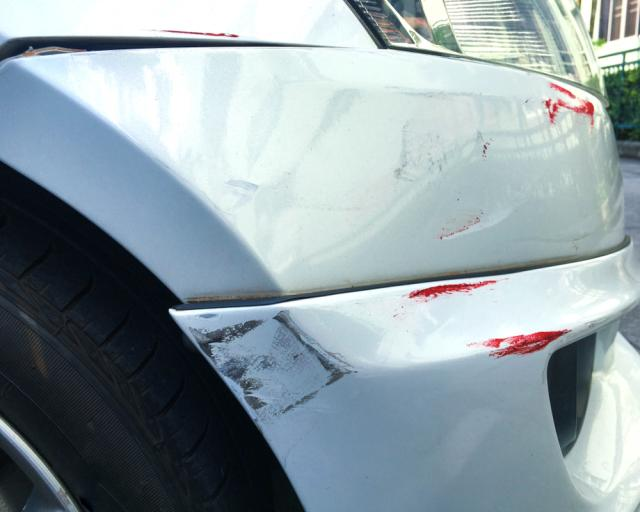scratch: (392, 82, 609, 246), (182, 307, 373, 425), (463, 317, 619, 360), (398, 275, 507, 320), (151, 25, 253, 42)
